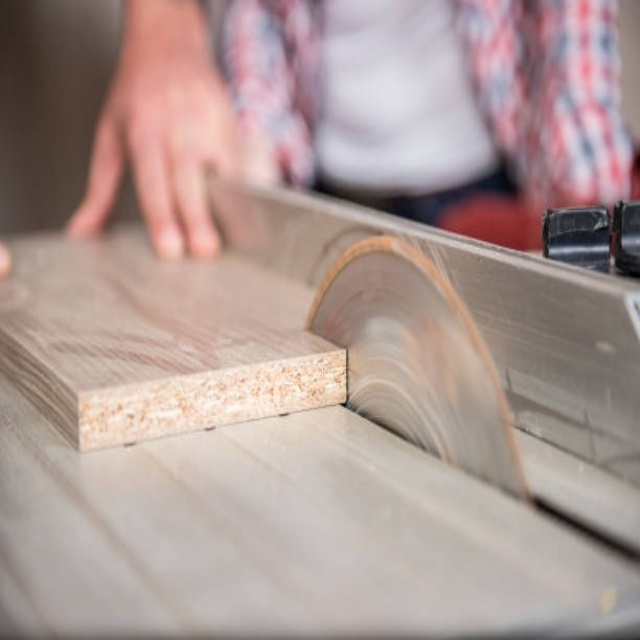Sin_guantes: (66, 2, 253, 266)
